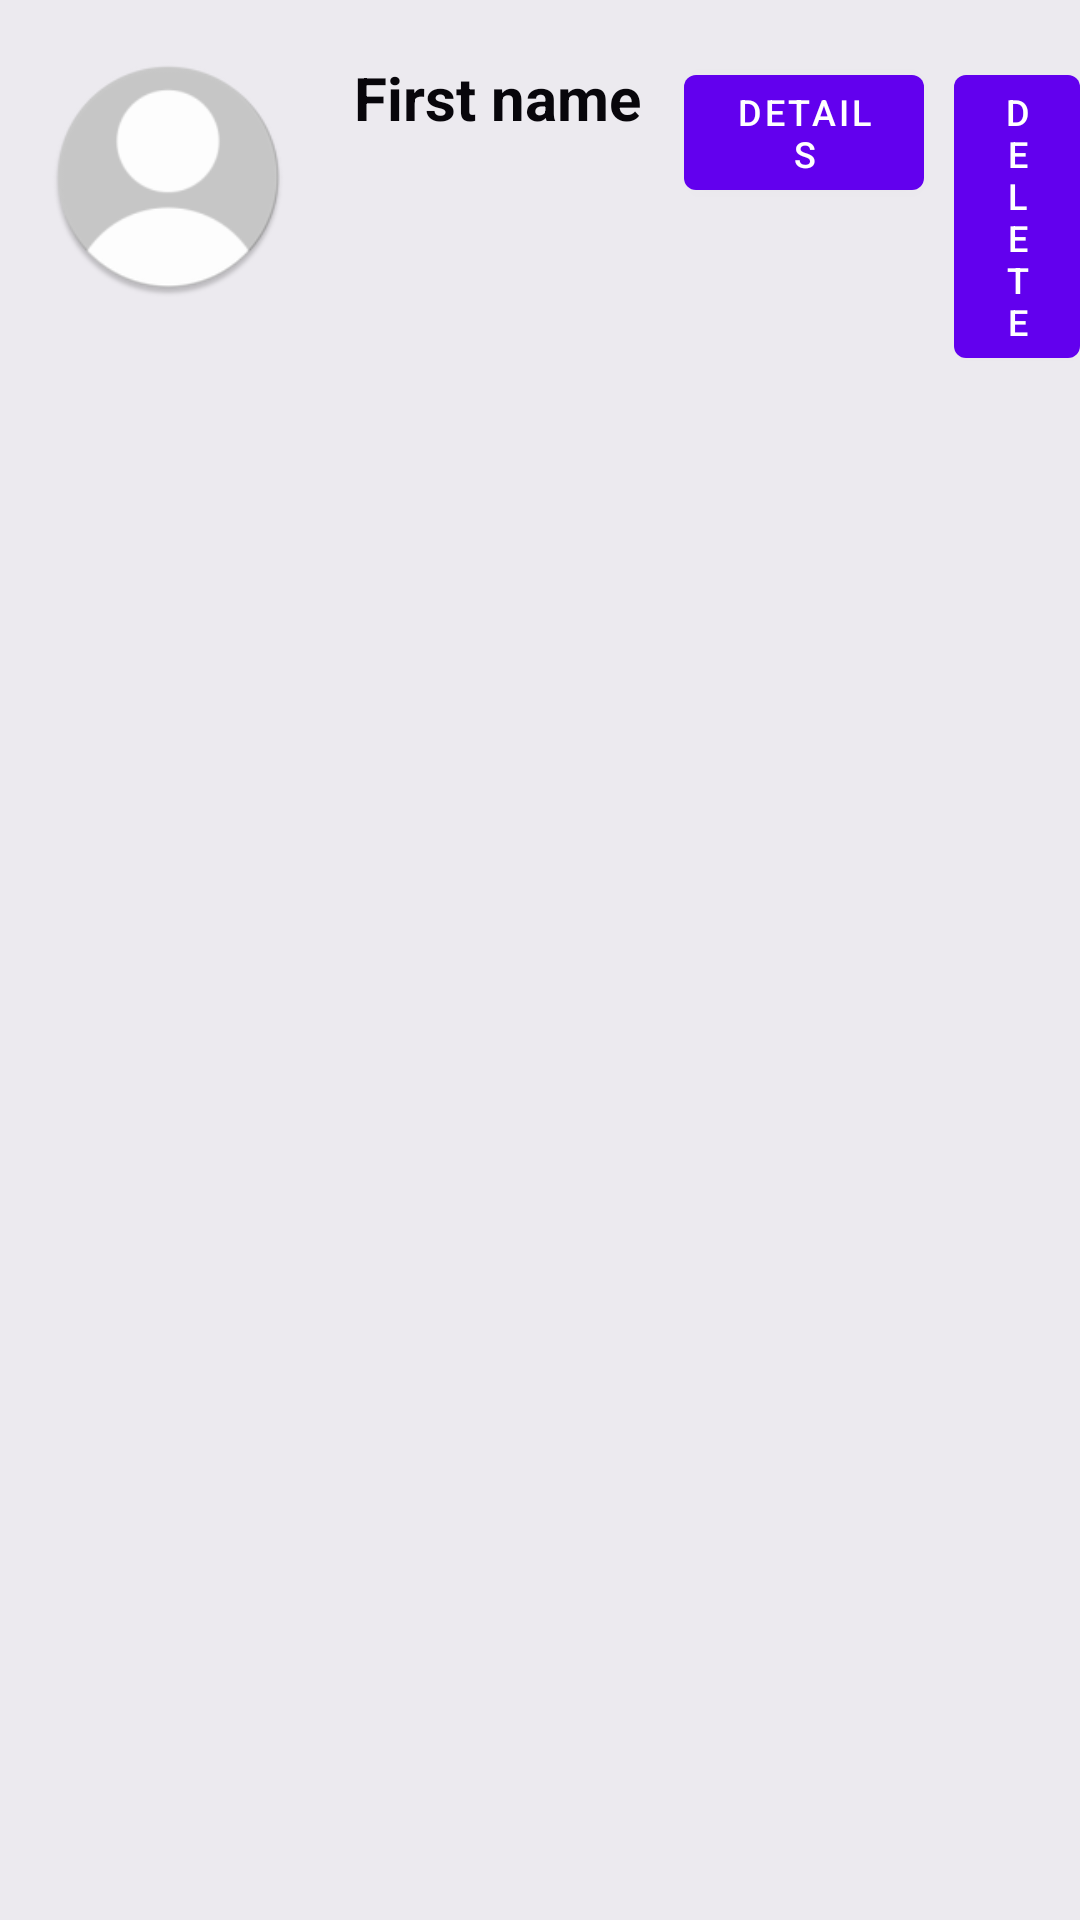

Icon bounding boxes for this 1080×1920 phone screenshot, format region(x1, y1, x2, y2):
user round: region(56, 66, 280, 295)
